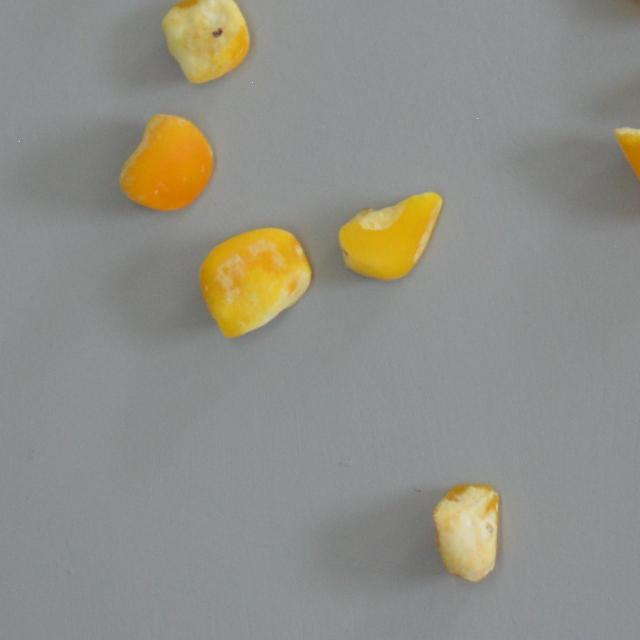dañado: (196, 225, 313, 340), (116, 112, 214, 211)
pelicula: (612, 122, 640, 219)
punto_negro: (334, 180, 449, 292), (154, 0, 268, 87), (430, 474, 505, 586)
